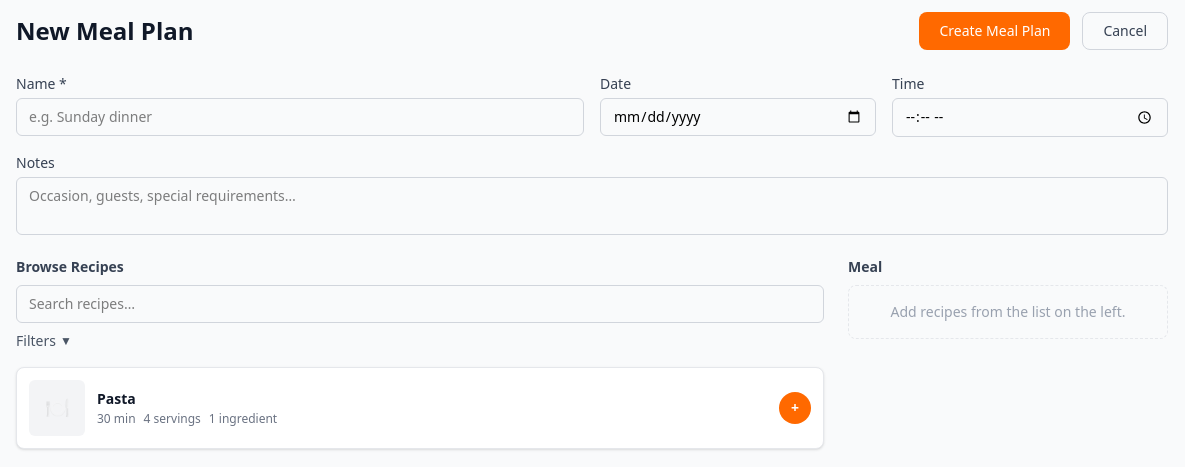
MealPlanFormPage (characterization) › selecting a recipe adds it to the meal with a servings input
Click the button named "Add Pasta": (795, 408) 779,392 -> 811,424
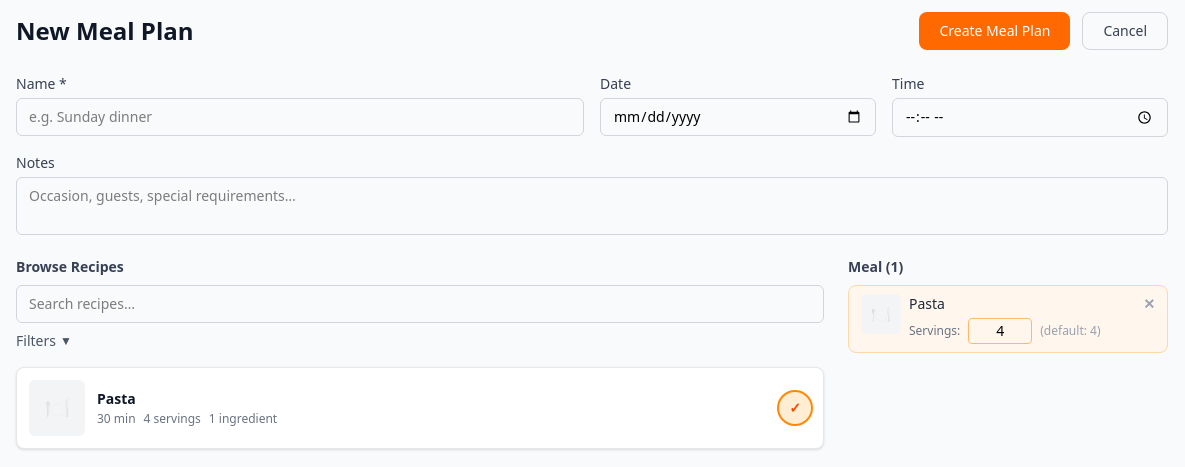
Now the heading "Meal (1)" is shown, box 848,257 -> 903,276
Now the number field labelled "Servings:" holds "4", box 968,318 -> 1032,344
